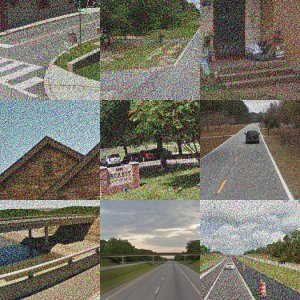公車: (107, 214, 198, 281), (233, 21, 274, 60), (35, 154, 81, 184), (7, 156, 38, 179)
棕梠樹: (102, 101, 188, 196)
汽車: (165, 254, 201, 288), (153, 54, 198, 76), (35, 40, 62, 60), (1, 262, 16, 294), (22, 251, 46, 269), (66, 249, 88, 264)
